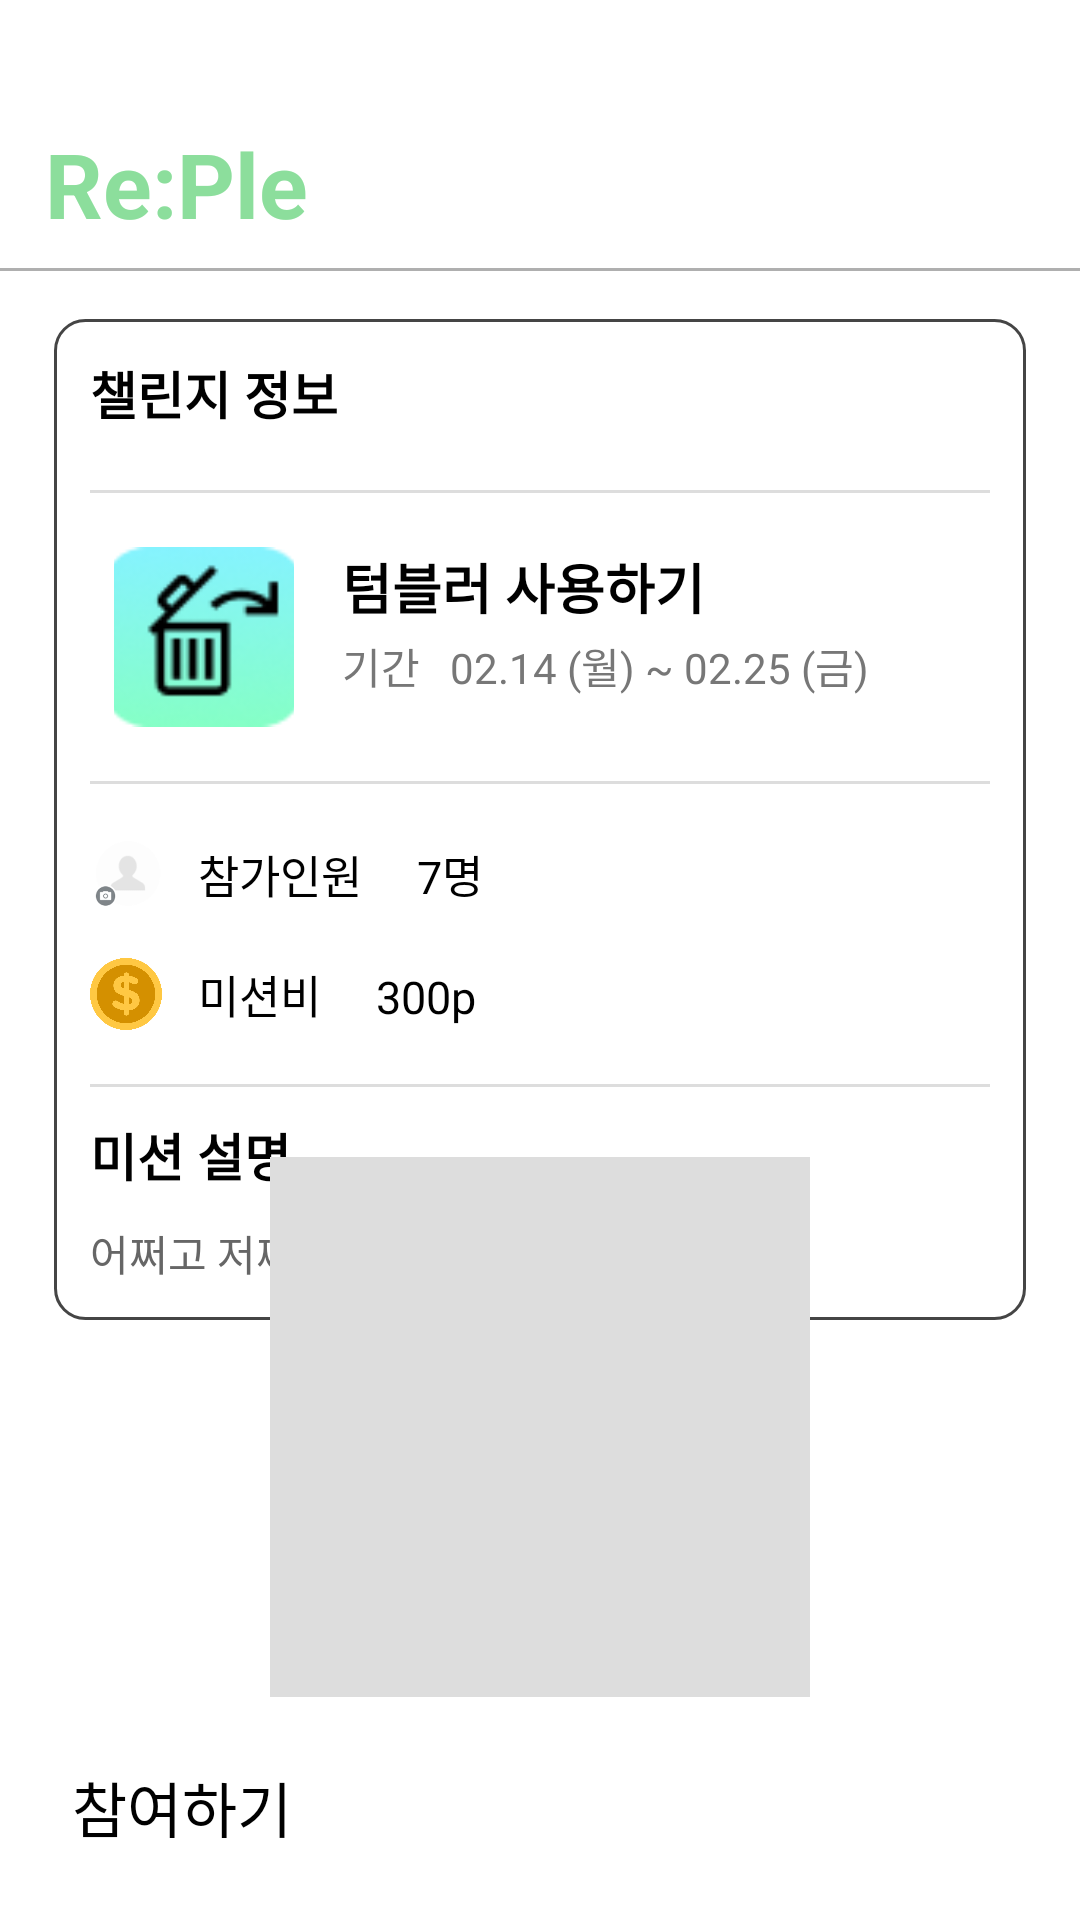

Icon click points for this 1080*1920 phone screenshot, format point (x, y):
coin: point (126, 994)
profile: point (120, 881)
